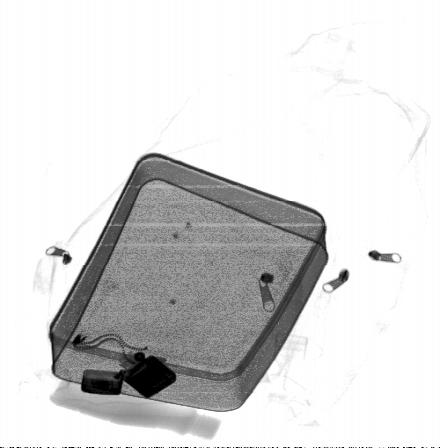Lighter: (80, 351, 177, 399)
